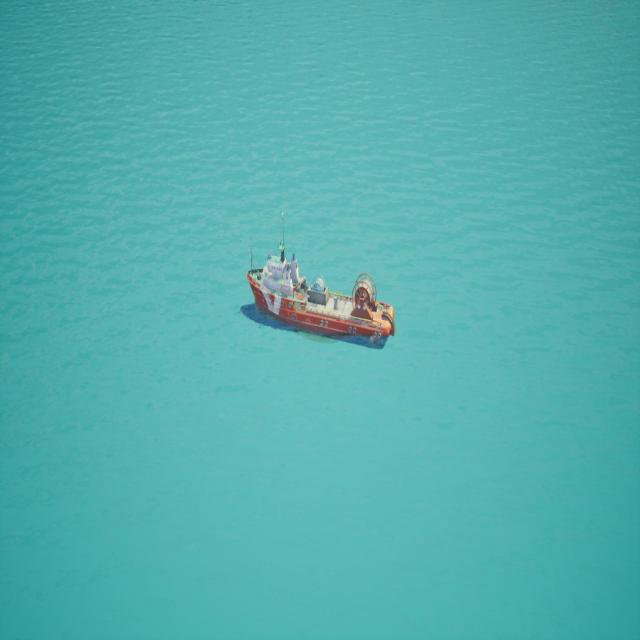tug boat: (242, 210, 396, 354)
